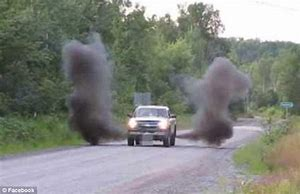smoke: (60, 33, 123, 142), (177, 56, 250, 144)
